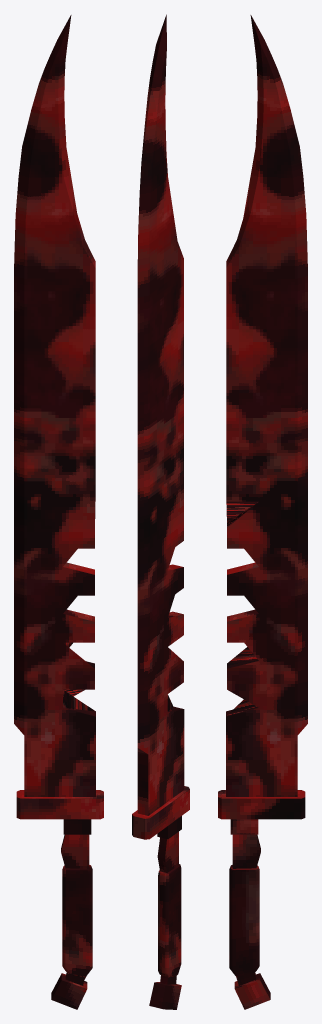
Rendered from item_butchersword_blood.glb.
The picture shows the model from 3 angles, left to right: view 1: azimuth 90°, elevation 25°; view 2: azimuth 150°, elevation 25°; view 3: azimuth 270°, elevation 25°; orthographic projection.
Visible parts, largest first — view 1: ButcherSword; view 2: ButcherSword; view 3: ButcherSword.
Part boxes in pixels (x1,y1,x2,y2): ButcherSword: (14,15,103,1009); ButcherSword: (132,14,189,1009); ButcherSword: (218,15,307,1009).
Size of the model in its own units: 0.0255 by 1.37 by 0.1122.
Materials: 1 (1 with a texture image).
